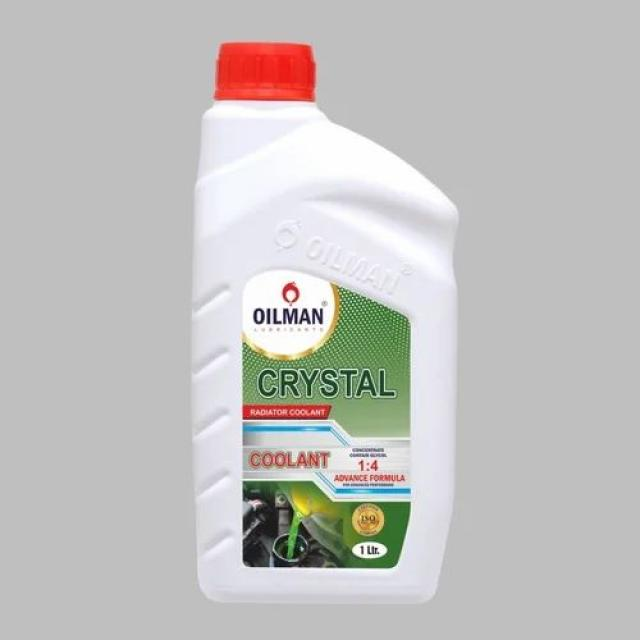coolant: (190, 37, 462, 608)
